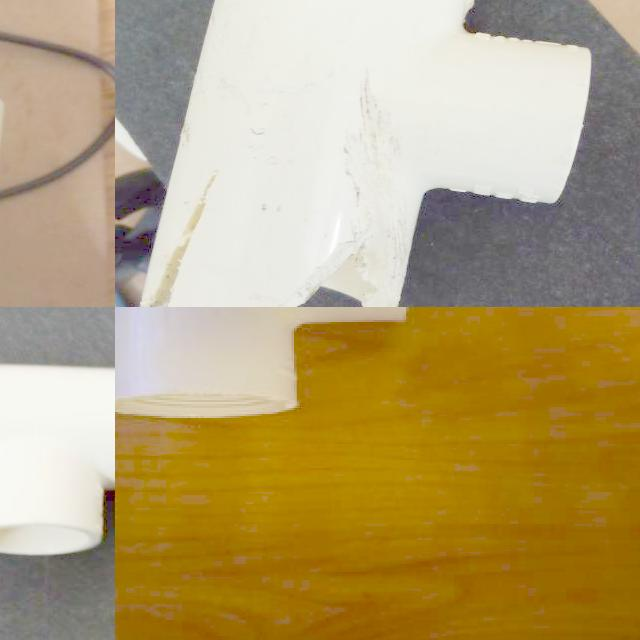Defective: (342, 90, 397, 307), (142, 173, 217, 307), (297, 265, 368, 307)
L Joint: (115, 307, 408, 422)
T Joint: (137, 0, 593, 307)
